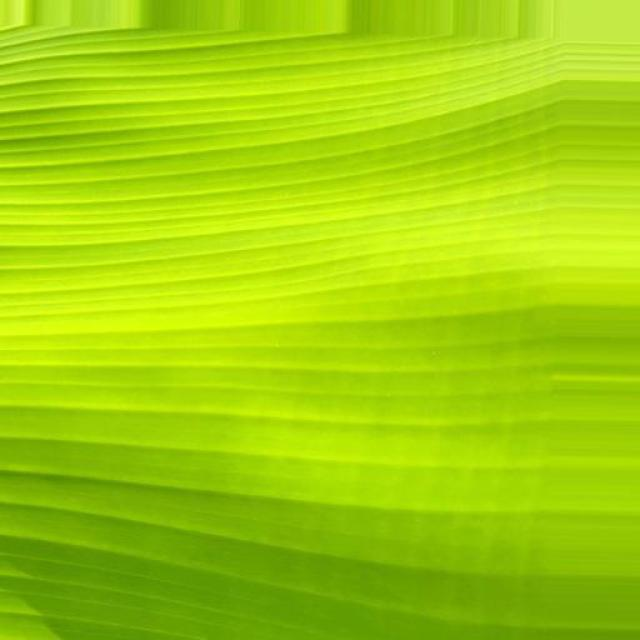Black_leaf_spot: (36, 28, 634, 587)
